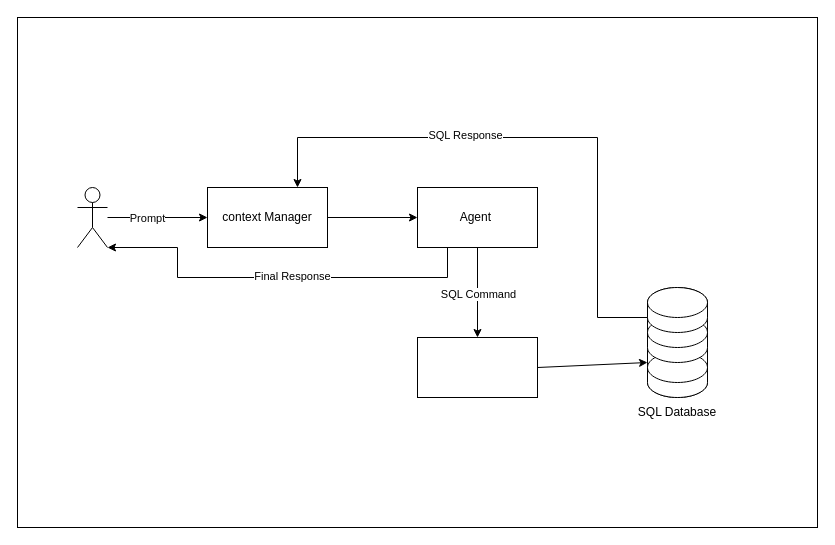
This 835x545 diagram has some shape labels left out. The shapes that lost their labels are listed below. From the top down, each one's centre as x and y in pixels, then its label:
At (92,217): "Actor".
At (477,367): "SQL tool call".
